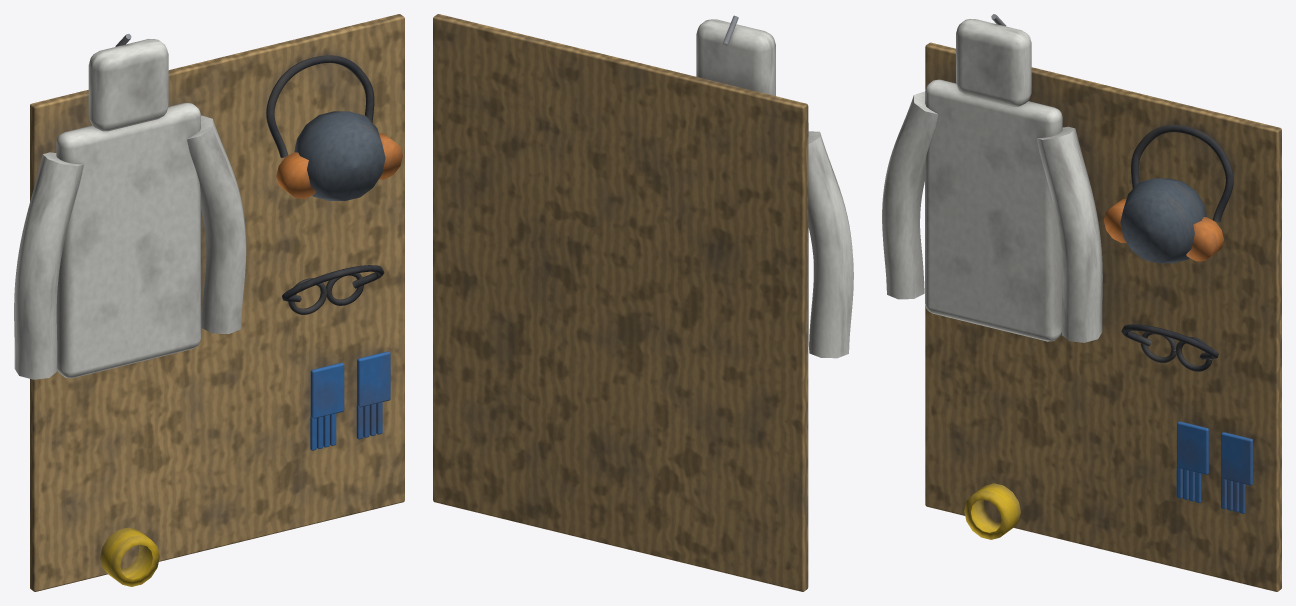
The model's file is skr_maski.glb.
The picture shows the model from 3 angles, left to right: view 1: azimuth 30°, elevation 25°; view 2: azimuth 150°, elevation 25°; view 3: azimuth 330°, elevation 25°; orthographic projection. The views are drawn at different scales.
Parts seen in each view (by area): view 1: Maski; view 2: Maski; view 3: Maski.
Boxes of the visible parts, left/top/right/bottom form: Maski: left=14, top=14, right=404, bottom=591; Maski: left=433, top=14, right=853, bottom=591; Maski: left=882, top=14, right=1281, bottom=591.
Bounding box in the file's own units: 0.865 × 1.12 × 0.18.
1 material, 1 textured.
